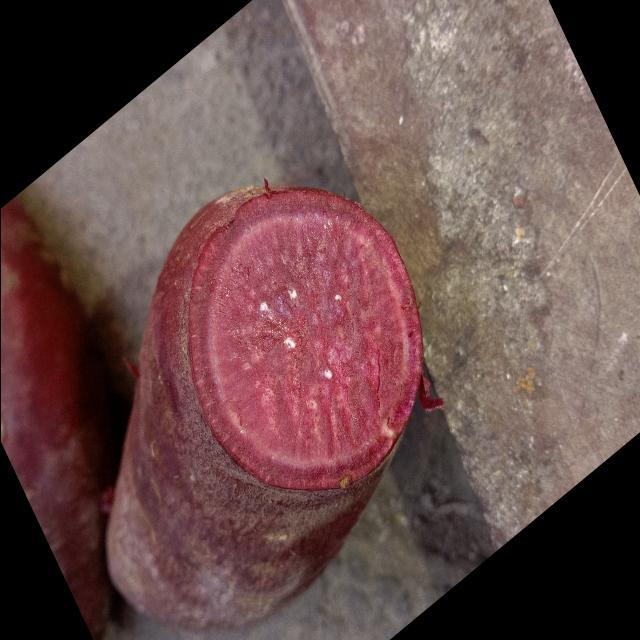Healthy Sweet Potato: (188, 187, 435, 490)
